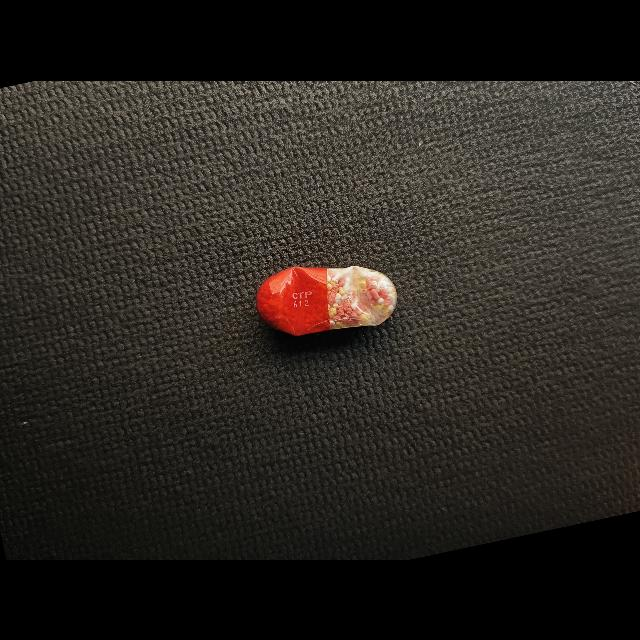Defective Capsule: (256, 265, 397, 335)
